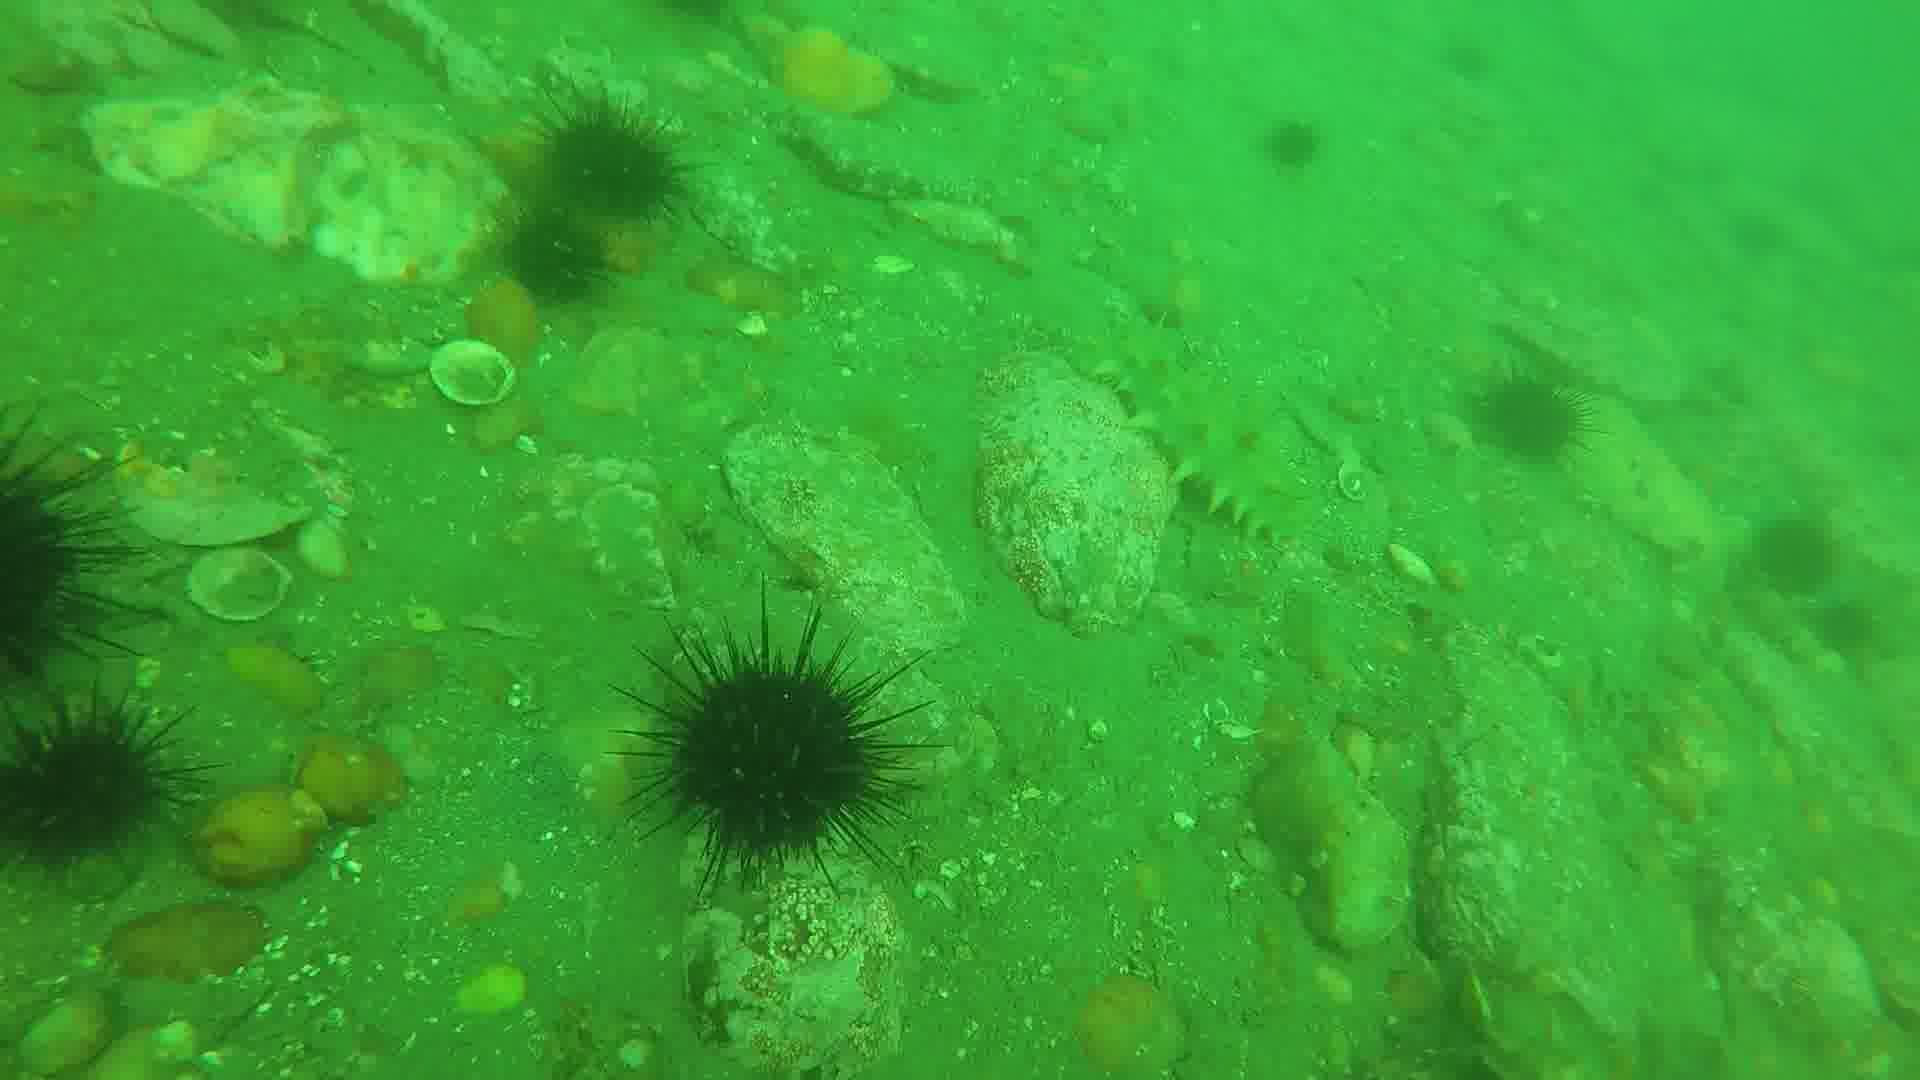echinus: (645, 640, 899, 878), (1, 436, 135, 692), (1, 702, 191, 865), (543, 88, 688, 228), (500, 208, 616, 311), (1489, 373, 1585, 463), (1760, 512, 1837, 600), (1828, 593, 1892, 670), (1265, 120, 1320, 175)
holothurian: (1106, 324, 1317, 543)
scallop: (187, 547, 291, 626), (427, 345, 525, 407), (1341, 462, 1374, 508)
